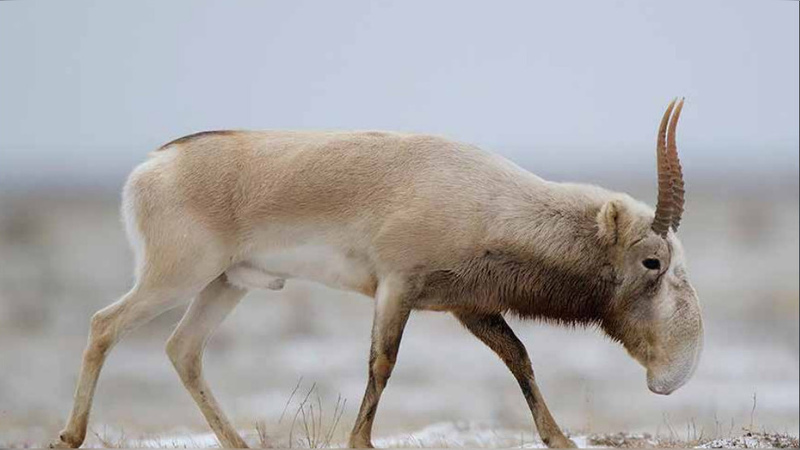saiga: (52, 94, 709, 450)
